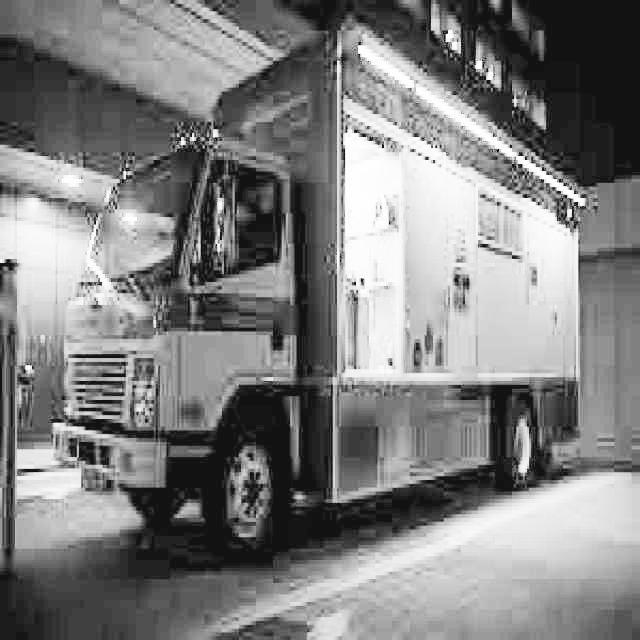Truck: (49, 11, 587, 560)
